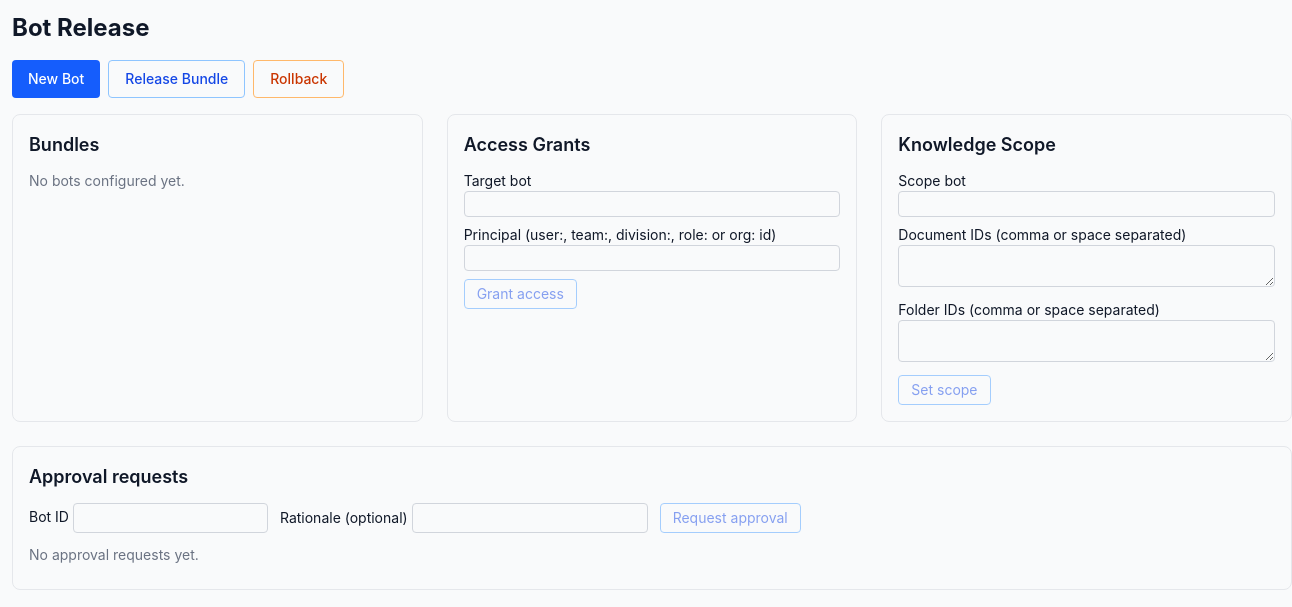
Scenario: BotReleaseScreen › shows a generic error without server text when the grant fails
Check: the text "No approval requests yet." is shown, box x1=29 y1=546 x2=199 y2=563
Step 1. Type "3f2c8a52-1b7e-4c1d-9a55-0d2f6a9b7c11" into the field labelled "Target bot" → (652, 204), box x1=464 y1=191 x2=840 y2=217
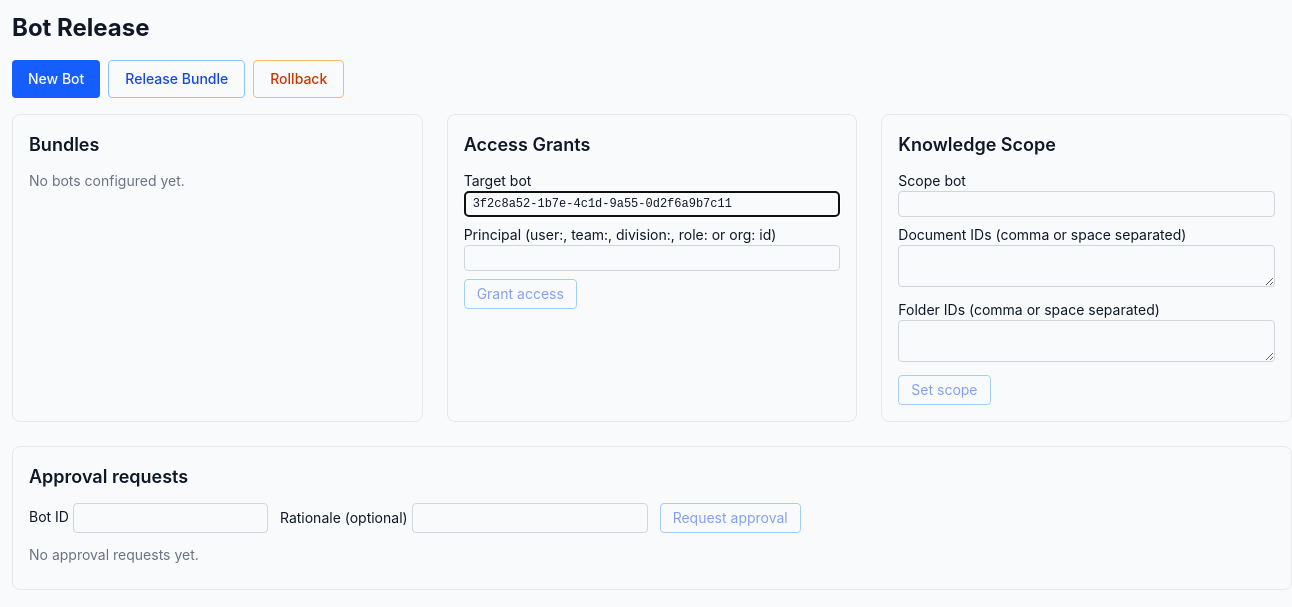
Step 2. Type "user:u1" into the field labelled "Principal (user:, team:, division:, role: or org: id)" → (652, 258), box x1=464 y1=245 x2=840 y2=271
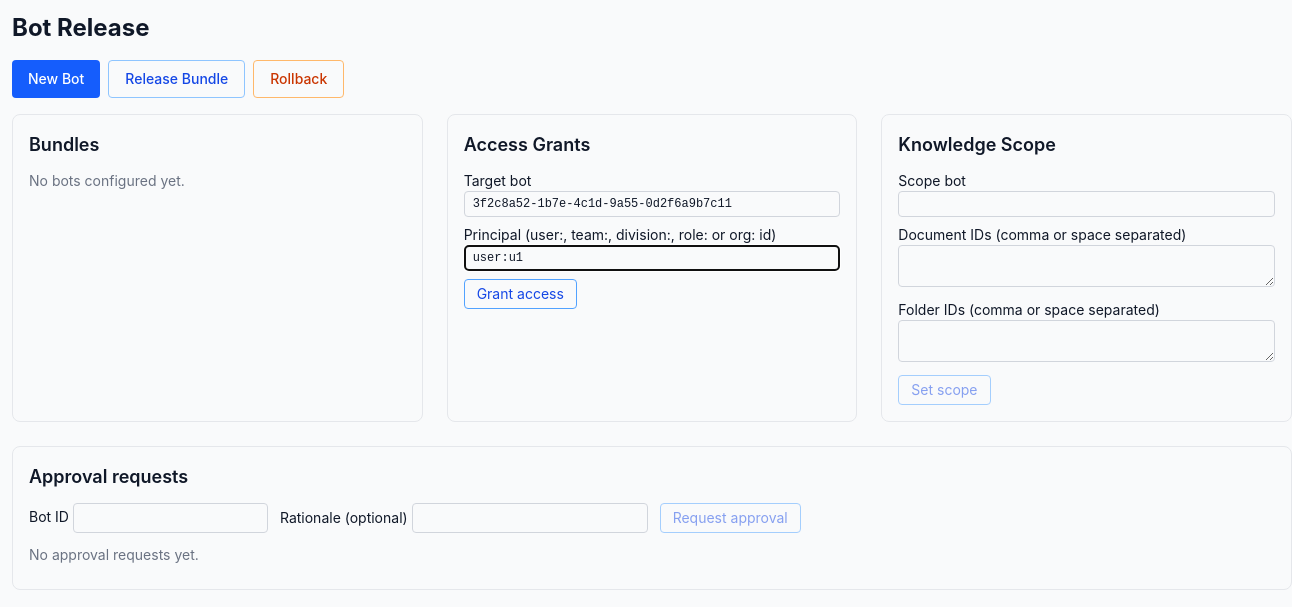
Step 3. Click the button "Grant access" → (520, 294), box x1=464 y1=279 x2=577 y2=309
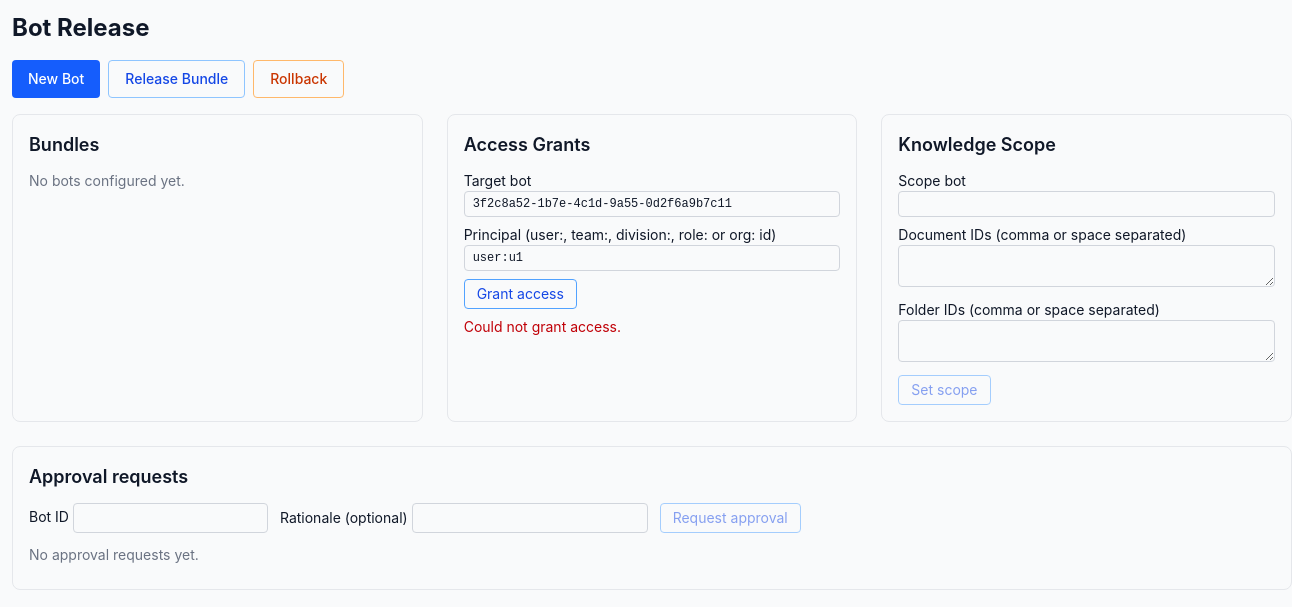
Check: the text "Could not grant access." is shown, box x1=464 y1=318 x2=621 y2=335
